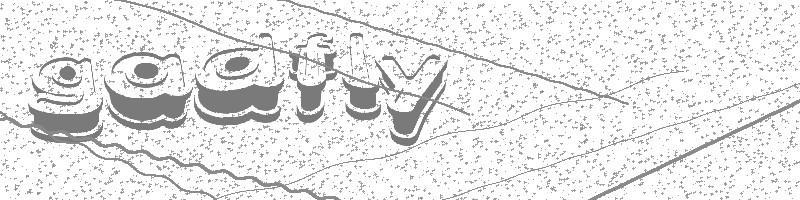a: (105, 51, 190, 130)
d: (195, 34, 285, 125)
f: (289, 33, 337, 123)
g: (30, 57, 103, 142)
l: (343, 33, 380, 120)
y: (376, 55, 446, 146)
